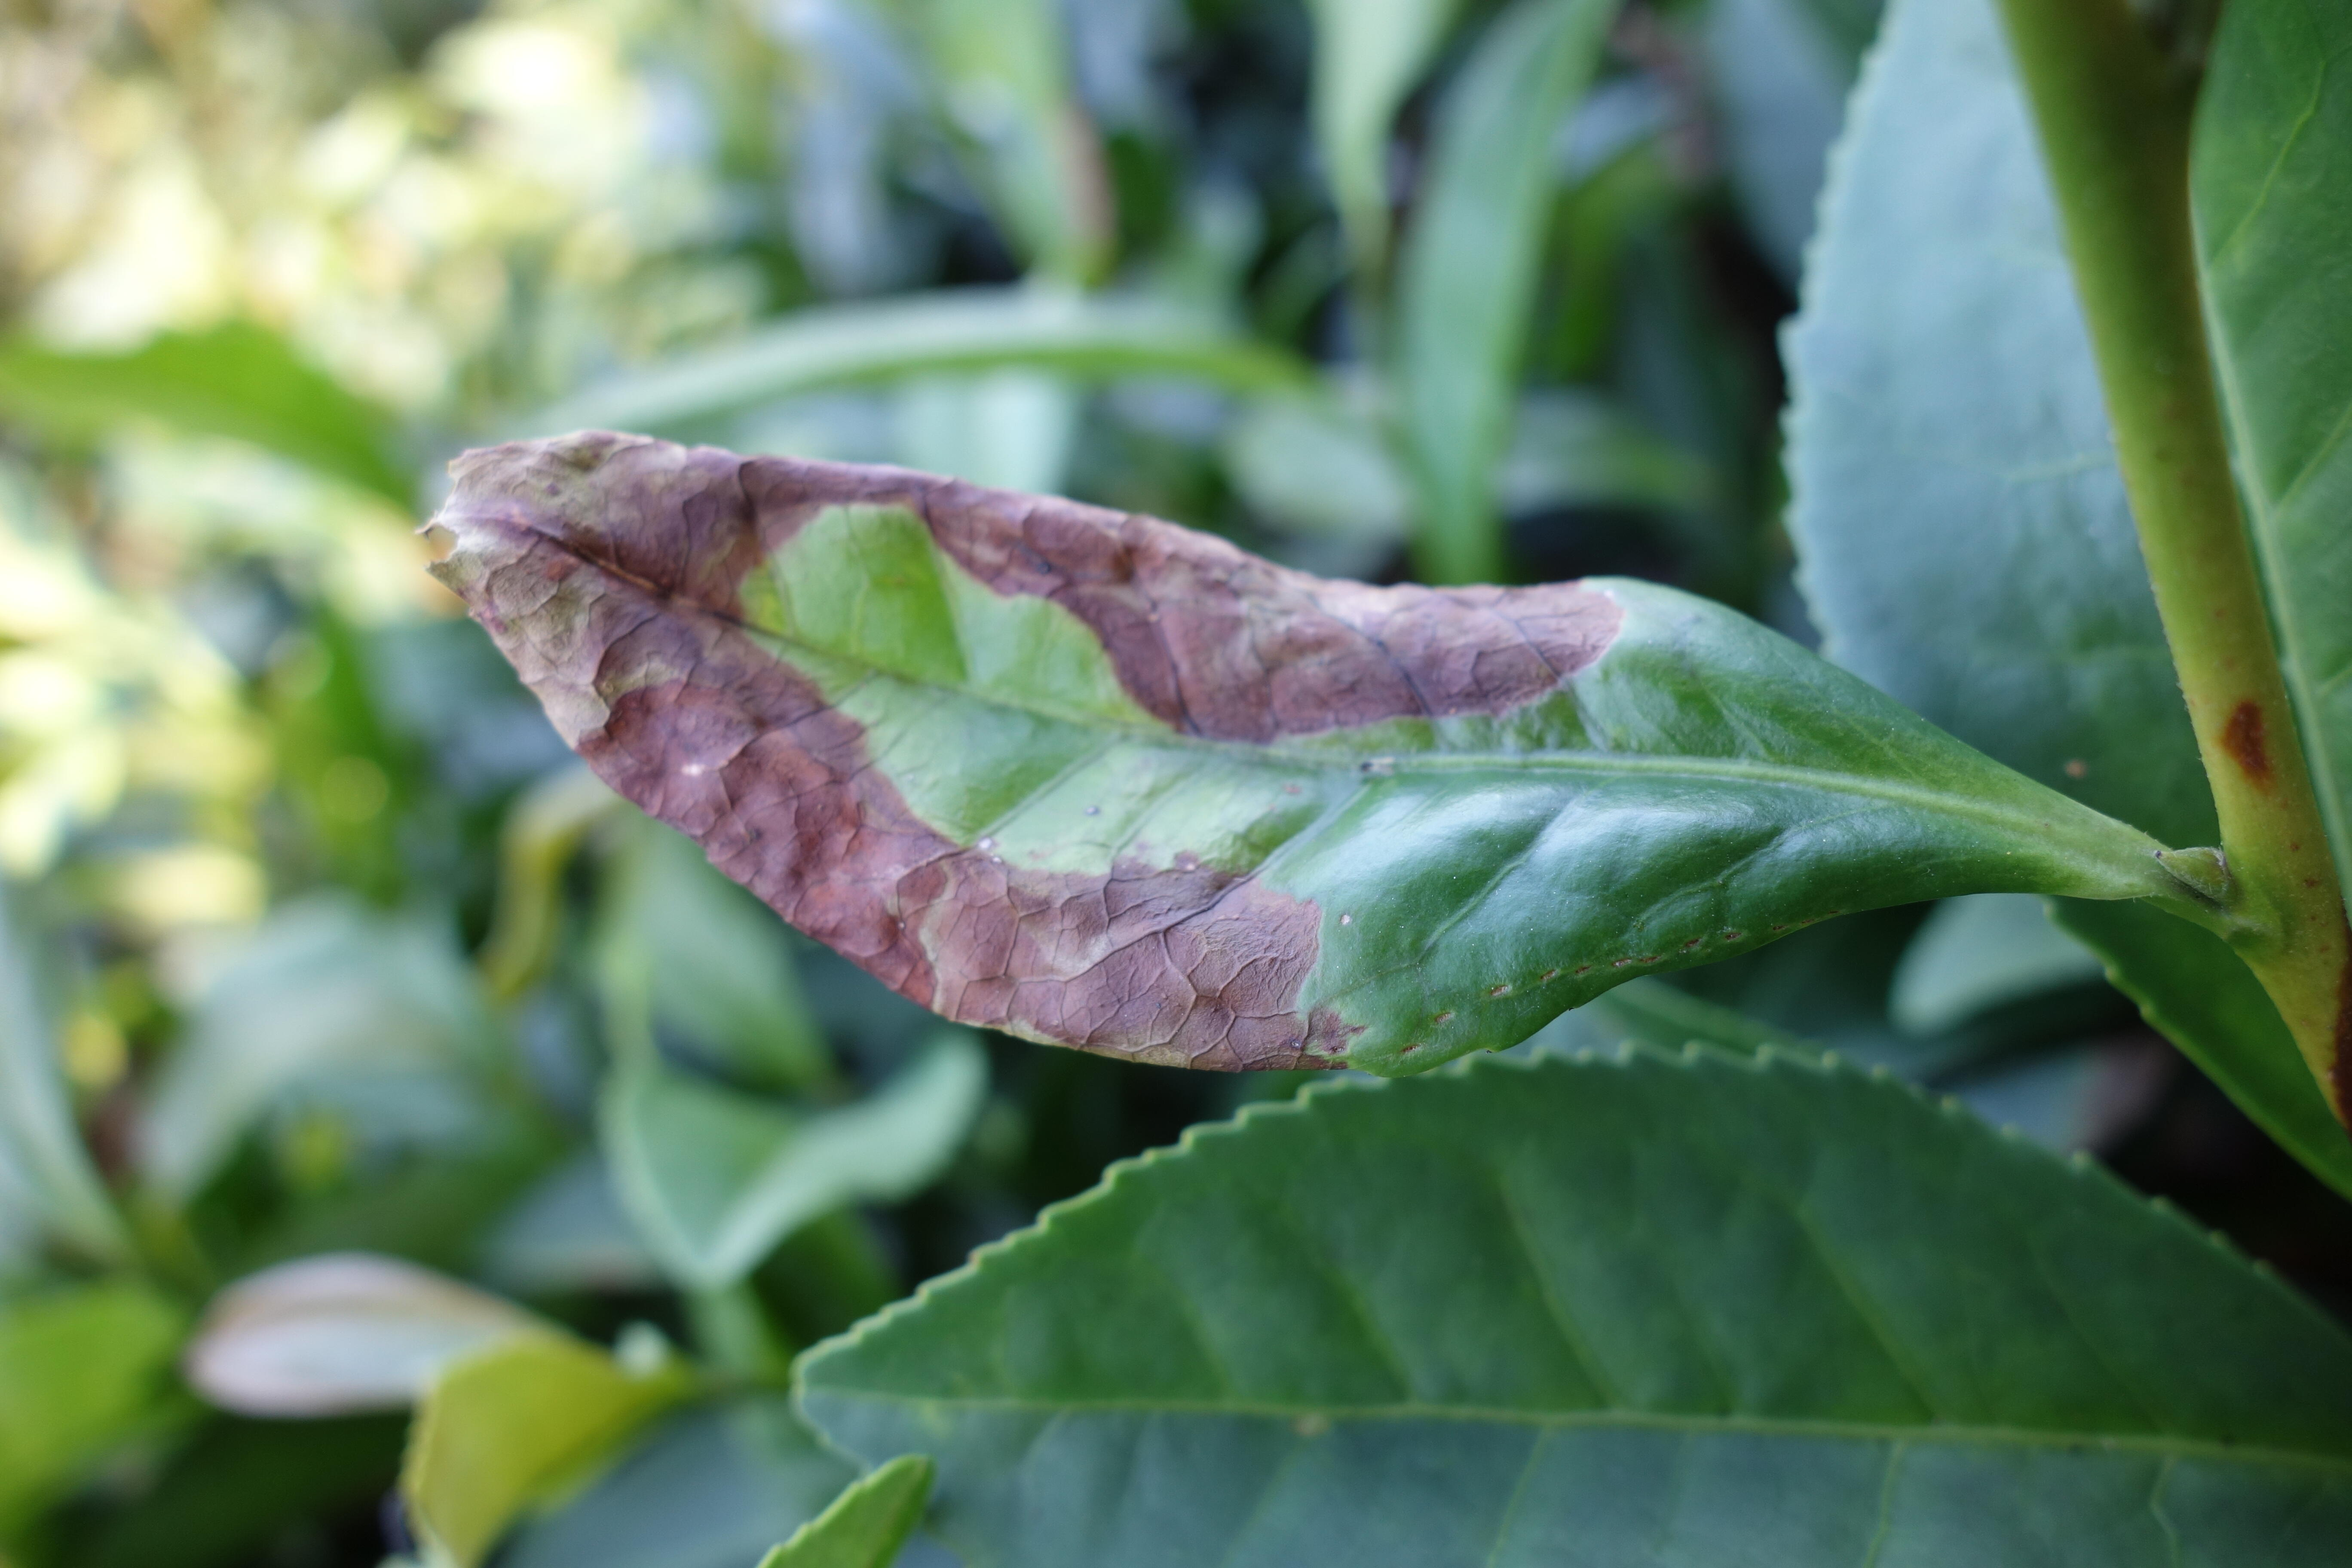tanju_high: (415, 423, 2138, 1081)
